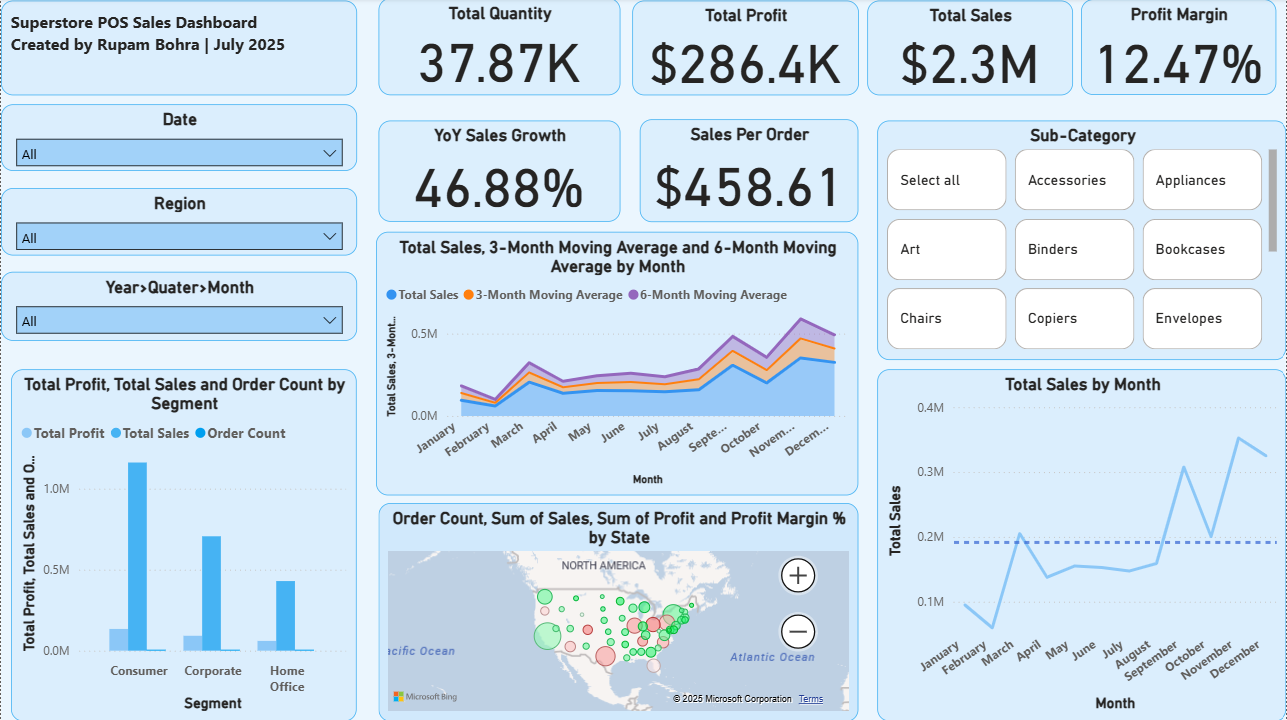

Layout of this report page (visuals, bound fields, positions):
{"tool":"powerbi","page":{"name":"Page 1","canvas":[1280,720],"ordinal":0},"visuals":[{"type":"card","title":"Total Sales","fields":{"Values":["Sum(Sample - Superstore.Sales)"]},"box":[861.6,2.3,204.7,94.2],"z":0},{"type":"card","title":"Total Profit","fields":{"Values":["Sum(Sample - Superstore.Profit)"]},"box":[627.9,2.3,225.6,94.2],"z":1000},{"type":"card","title":"Total Quantity","fields":{"Values":["Sample - Superstore.Total Quantity"]},"box":[375.6,0,240.7,96.5],"z":2000},{"type":"card","title":"Profit Margin","fields":{"Values":["Sample - Superstore.Profit Margin %"]},"box":[1074.4,1.2,194.2,95.3],"z":3000},{"type":"map","fields":{"Category":["Sample - Superstore.State"],"Size":["Sample - Superstore.Order Count1"]},"box":[375.6,502.3,477.9,217.4],"z":4000},{"type":"slicer","title":"Date","fields":{"Values":["Sample - Superstore.Order Date"]},"box":[0,105.8,354.7,66.3],"z":5000},{"type":"clusteredColumnChart","fields":{"Category":["Sample - Superstore.Segment"],"Y":["Sample - Superstore.Total Profit","Sample - Superstore.Total Sales","Sample - Superstore.Order Count1"]},"box":[10.5,369.8,344.2,350],"z":6000},{"type":"lineChart","fields":{"Category":["Sample - Superstore.Order Date.Variation.Date Hierarchy.Month"],"Y":["Sample - Superstore.Total Sales"]},"box":[872,369.5,408,350.8],"z":7000},{"type":"slicer","title":"Region","fields":{"Values":["Sample - Superstore.Region"]},"box":[0,189.5,354.7,67.4],"z":8000},{"type":"advancedSlicerVisual","fields":{"Values":["Sample - Superstore.Sub-Category"]},"box":[872.1,122.1,408.1,238.4],"z":9000},{"type":"slicer","title":"Year>Quater>Month","fields":{"Values":["Sample - Superstore.Order Date.Variation.Date Hierarchy.Year","Sample - Superstore.Order Date.Variation.Date Hierarchy.Quarter","Sample - Superstore.Order Date.Variation.Date Hierarchy.Month"]},"box":[0,272.1,354.7,68.6],"z":10000},{"type":"card","title":"YoY Sales Growth","fields":{"Values":["Sample - Superstore.YoY Growth % Safe"]},"box":[375.6,122.1,240.7,101.2],"z":11000},{"type":"card","title":"Sales Per Order","fields":{"Values":["Sample - Superstore.Sales per Order"]},"box":[636,120.9,217.4,102.3],"z":12000},{"type":"textbox","box":[0,2.3,354.7,94.2],"z":13000},{"type":"stackedAreaChart","fields":{"Category":["Sample - Superstore.Order Date.Variation.Date Hierarchy.Month"],"Y":["Sample - Superstore.Total Sales","Sample - Superstore.3-Month Moving Average","Sample - Superstore.6-Month Moving Average"]},"box":[373.2,232.6,480.2,262.5],"z":14000}]}

Visuals, with their boxes in screenshot pixels (x1, y1, x2, y2), scaled from the page's 1280x720 canvas onto the 1287x720 screenshot:
"Total Sales" card: crop(866, 2, 1072, 96)
"Total Profit" card: crop(631, 2, 858, 96)
"Total Quantity" card: crop(378, 0, 620, 96)
"Profit Margin" card: crop(1080, 1, 1276, 96)
map - Sample - Superstore.State x Sample - Superstore.Order Count1: crop(378, 502, 858, 719)
"Date" slicer: crop(0, 106, 357, 172)
clusteredColumnChart - Sample - Superstore.Segment x Sample - Superstore.Total Profit: crop(11, 370, 357, 719)
lineChart - Sample - Superstore.Order Date.Variation.Date Hierarchy.Month x Sample - Superstore.Total Sales: crop(877, 370, 1286, 719)
"Region" slicer: crop(0, 190, 357, 257)
advancedSlicerVisual - Sample - Superstore.Sub-Category: crop(877, 122, 1286, 360)
"Year>Quater>Month" slicer: crop(0, 272, 357, 341)
"YoY Sales Growth" card: crop(378, 122, 620, 223)
"Sales Per Order" card: crop(639, 121, 858, 223)
textbox: crop(0, 2, 357, 96)
stackedAreaChart - Sample - Superstore.Order Date.Variation.Date Hierarchy.Month x Sample - Superstore.Total Sales: crop(375, 233, 858, 495)
